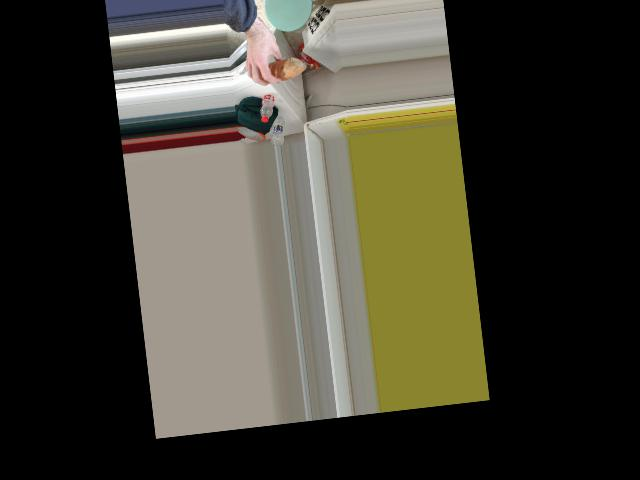sweet_potato: (260, 52, 296, 81)
